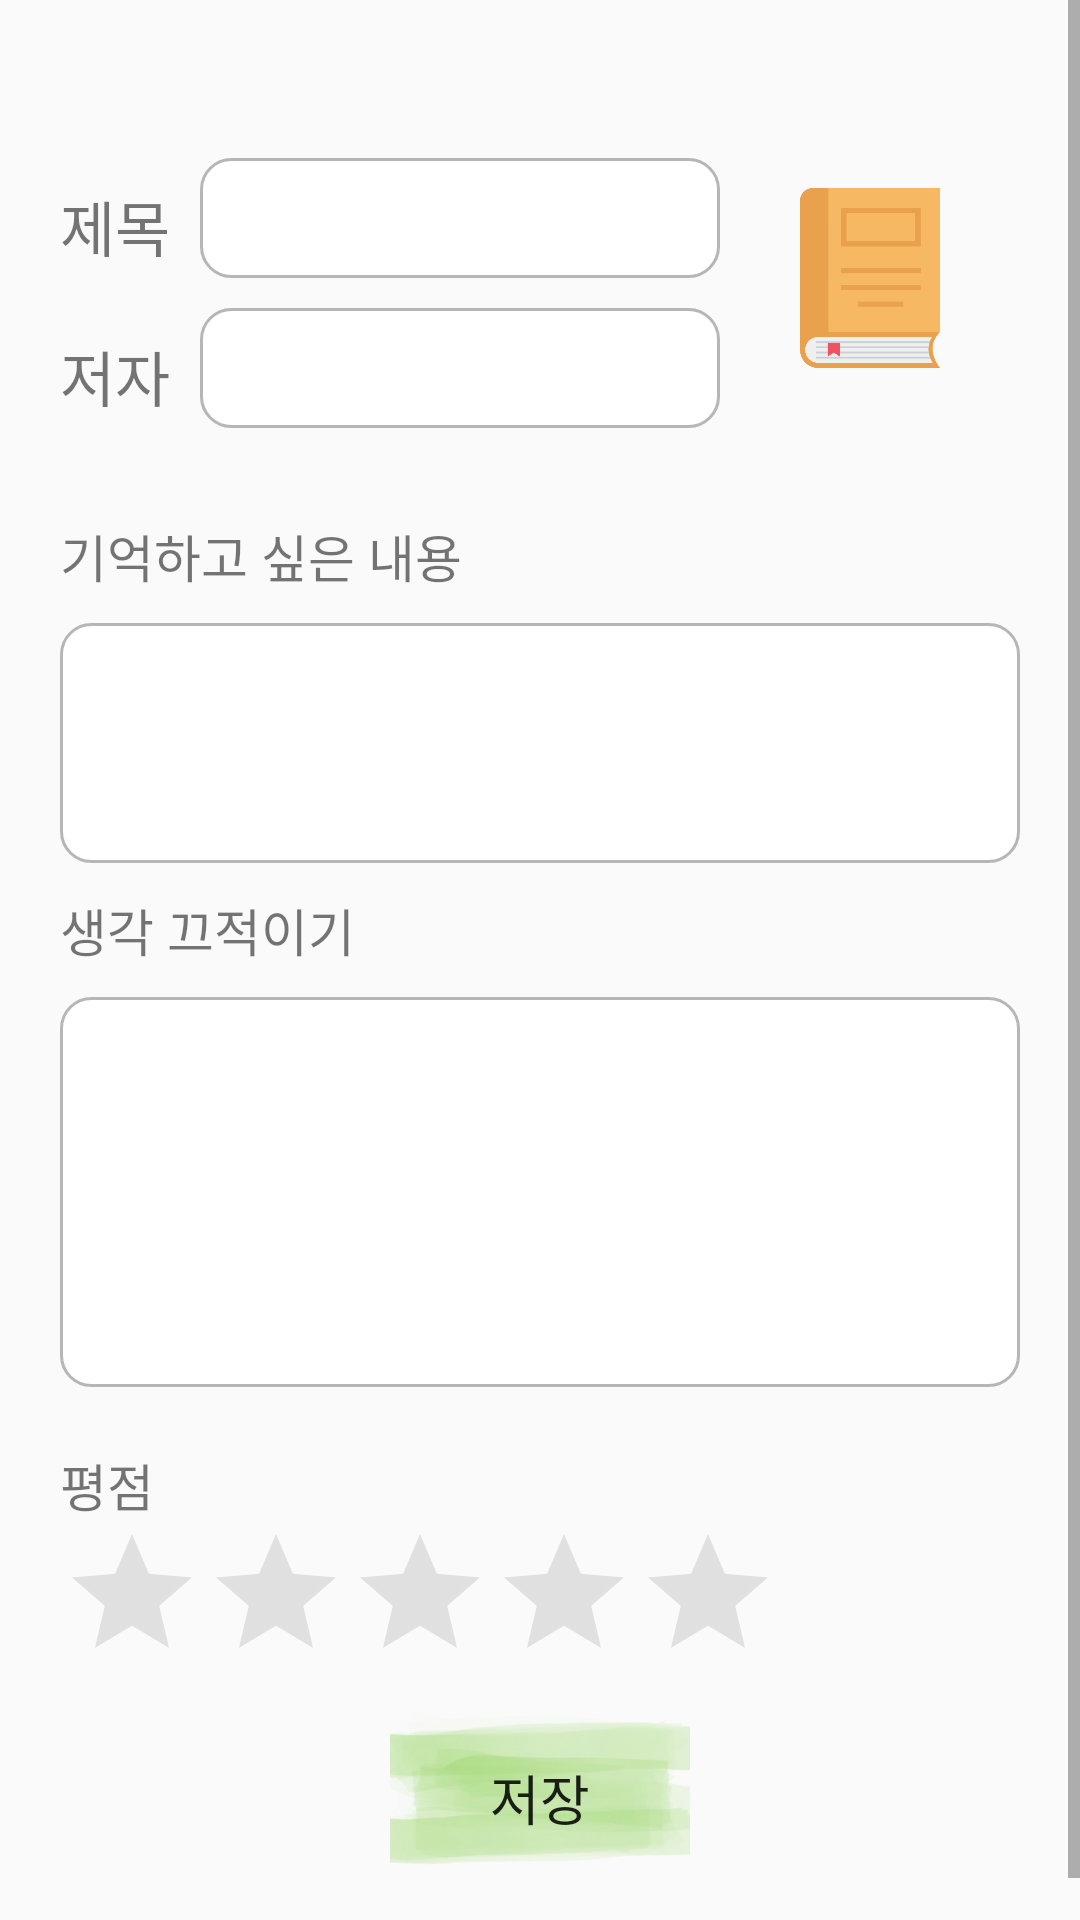

Screen size 1080 × 1920. Icon name, then its center in pixels as (x=x, y=y):
bcover: (x=870, y=278)
